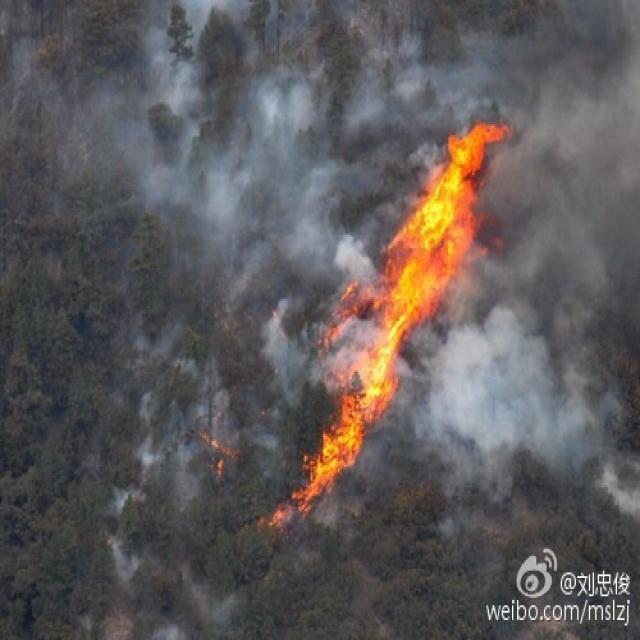Fire: (266, 120, 515, 527), (197, 430, 238, 478)
Smoke: (87, 1, 640, 628)
